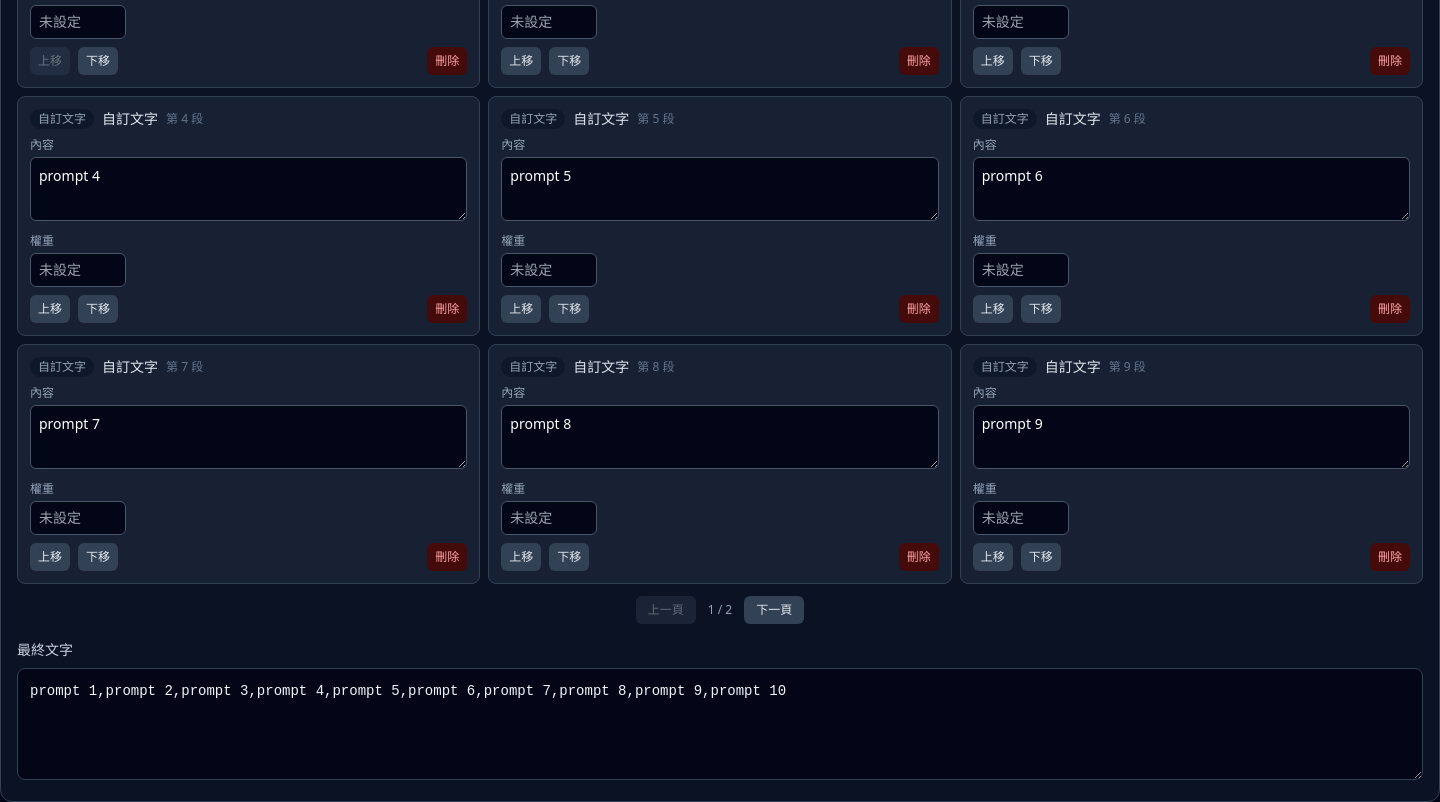
Test case: PromptComposerPanel › paginates selected cards at 9 per page
(page scrolled)
Click the button with aria-label "下一頁": (774, 610) [744,596,804,624]
(page scrolled)
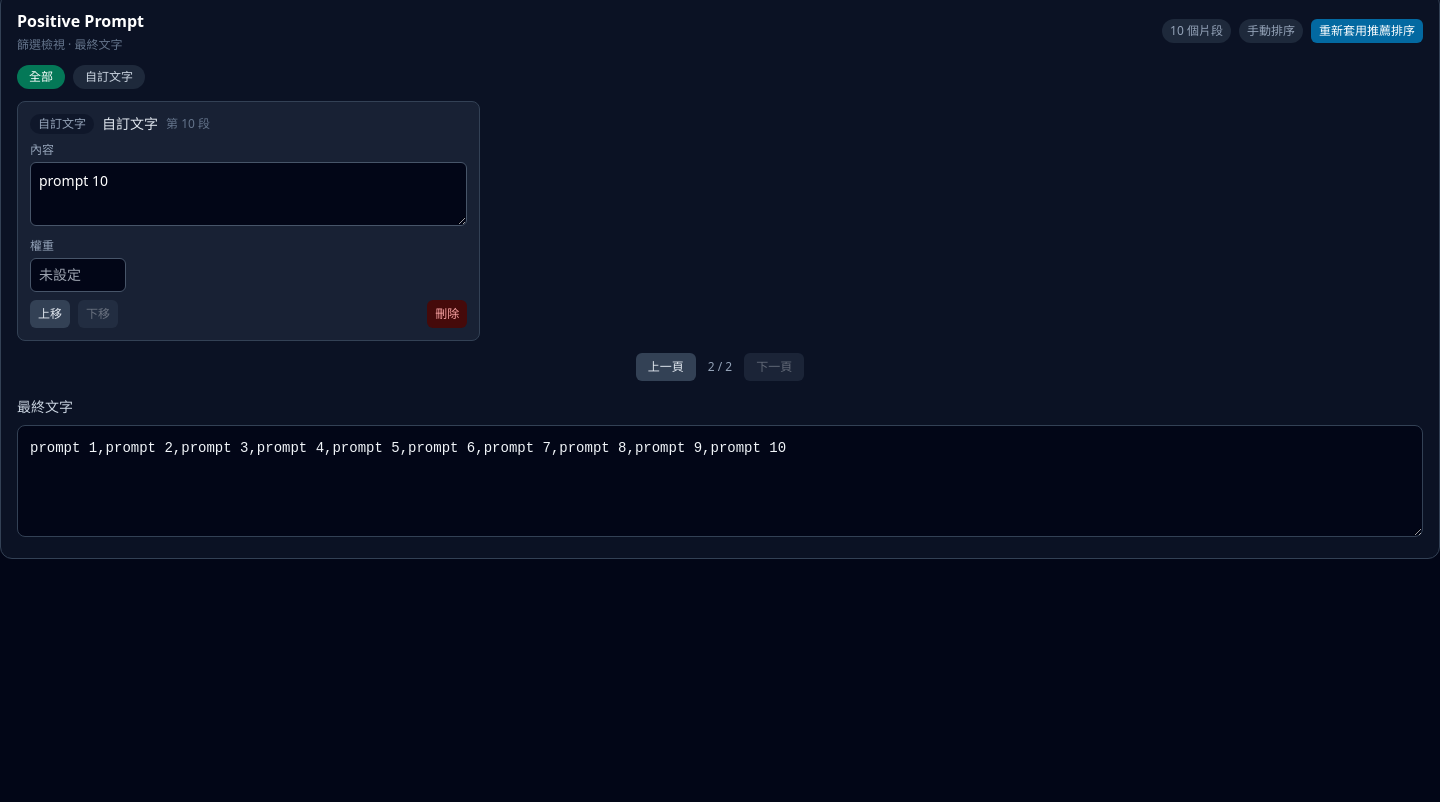
Check: the number of text boxes labelled " 內容" is 1, box [30,162,467,226]
